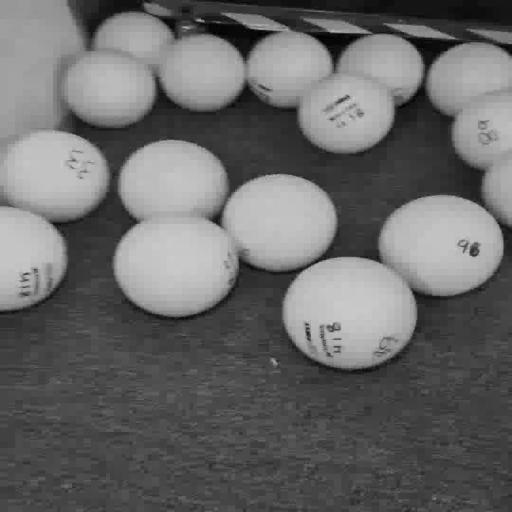fuel: (282, 257, 417, 370), (113, 215, 239, 317), (379, 195, 503, 296), (221, 174, 337, 271), (0, 131, 110, 222), (118, 140, 228, 221), (298, 74, 394, 153), (62, 50, 157, 128), (0, 206, 67, 312), (159, 34, 246, 111), (247, 32, 333, 108), (336, 34, 425, 106), (426, 42, 511, 117), (92, 12, 174, 71), (452, 90, 511, 171), (482, 153, 511, 229)
